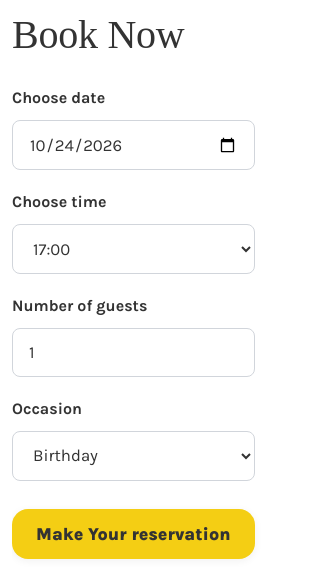
Test: BookingForm - UI Validation Integration › Submit button is disabled when guests is invalid and enabled when valid
Expected: the button showing "Make Your reservation" is enabled, top-left (12, 509), bottom-right (254, 559)
In the number field labelled "Number of guests": (133, 352) top-left (12, 328), bottom-right (254, 377), type "0"
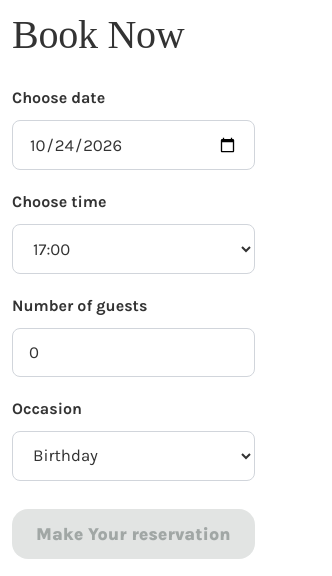
Result: the button showing "Make Your reservation" is disabled at top-left (12, 509), bottom-right (254, 559)
Replace the text in the number field labelled "Number of guests" with "5": (133, 352) top-left (12, 328), bottom-right (254, 377)
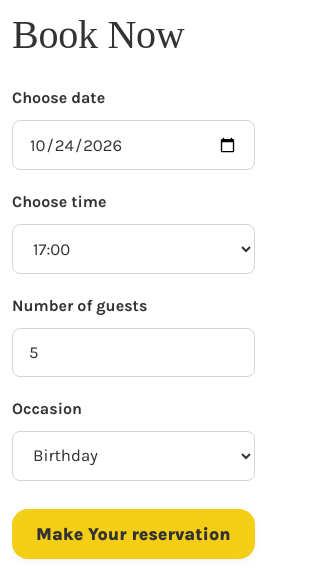
Result: the button showing "Make Your reservation" is enabled at top-left (12, 509), bottom-right (254, 559)
